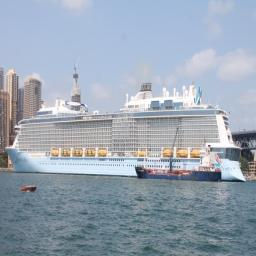cruises: (5, 83, 245, 186)
